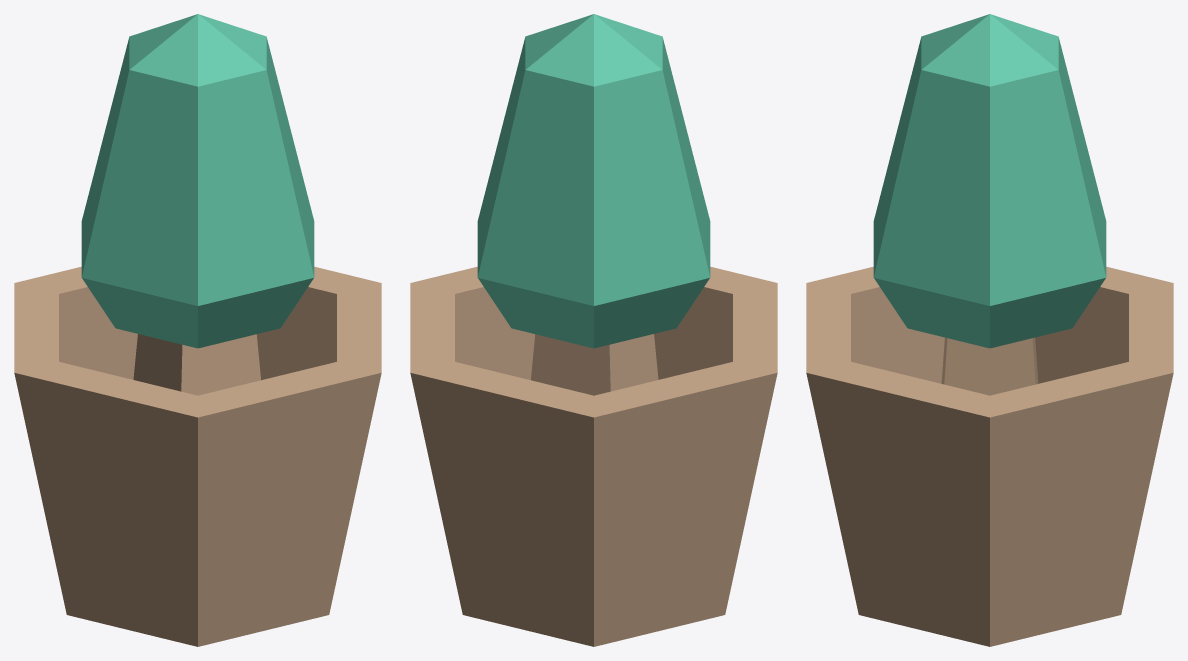
File: plantSmall3.glb
The picture shows the model from 3 angles, left to right: view 1: azimuth 30°, elevation 25°; view 2: azimuth 150°, elevation 25°; view 3: azimuth 270°, elevation 25°; orthographic projection.
Parts seen in each view (by area): view 1: plantSmall3; view 2: plantSmall3; view 3: plantSmall3.
Part boxes in pixels (<box>): plantSmall3: <box>14,14,381,646</box>; plantSmall3: <box>410,14,777,646</box>; plantSmall3: <box>806,14,1173,646</box>.
Bounding box in the file's own units: 0.098 × 0.145 × 0.0849.
